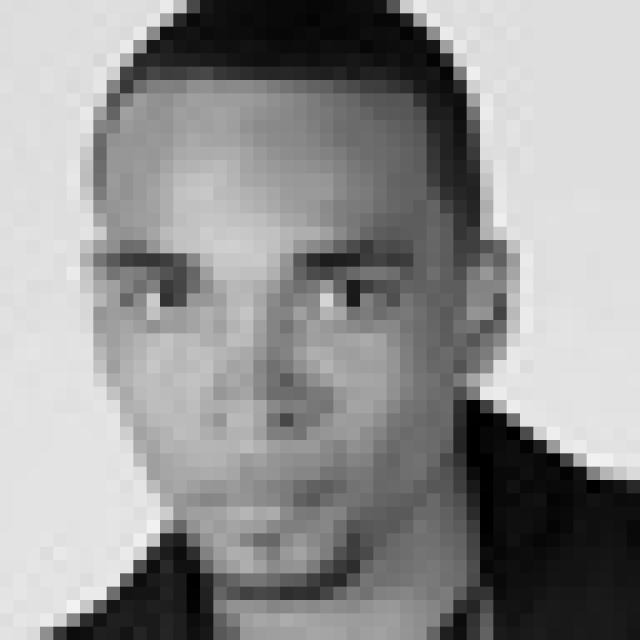neutral: (109, 232, 429, 549)
